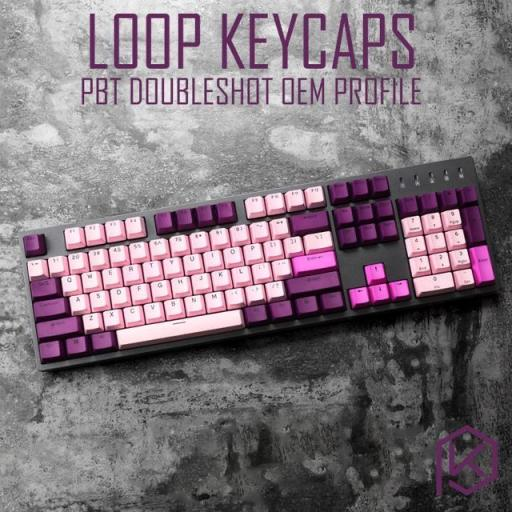keyboard: (26, 155, 510, 350)
